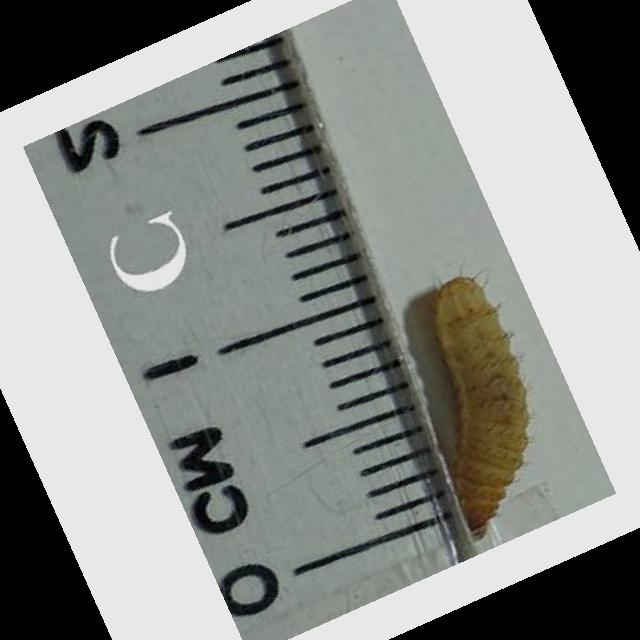Maggot: (420, 276, 530, 533)
